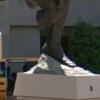Statue: (22, 2, 80, 68)
